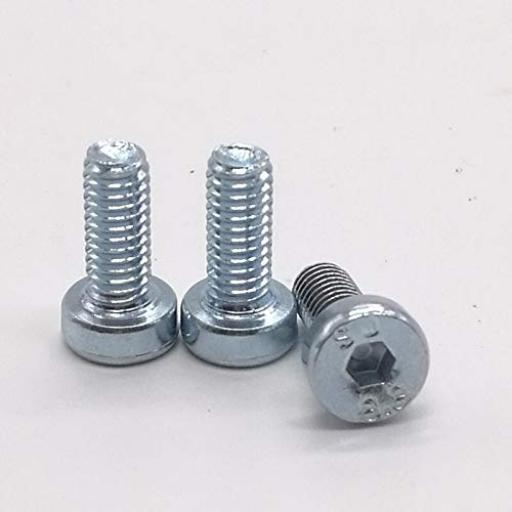Hex-Allen: (304, 294, 428, 429)
